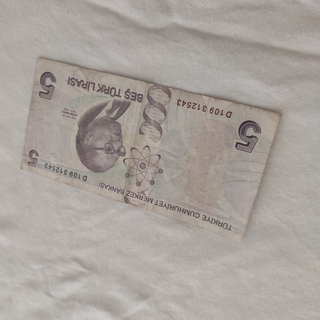5TLBack: (19, 55, 282, 243)
